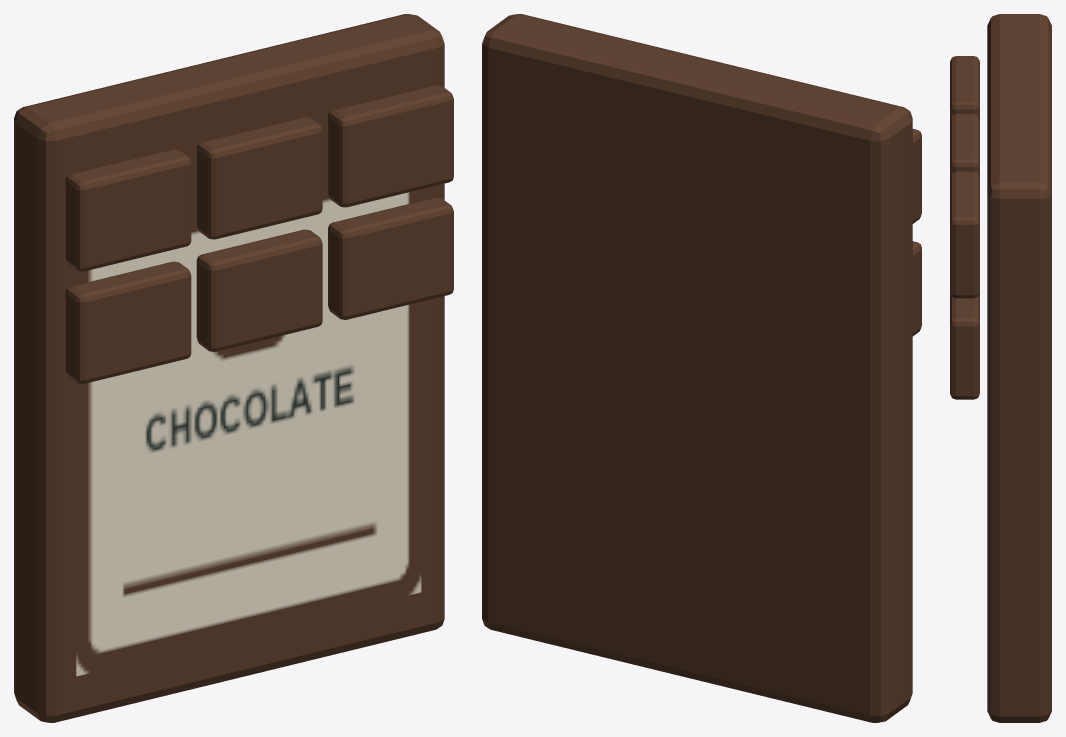
File: chocolate.fbx
3 views of the same model, side by side, from view 1: azimuth 30°, elevation 25°; view 2: azimuth 150°, elevation 25°; view 3: azimuth 270°, elevation 25° (orthographic). The views are drawn at different scales.
Visible parts, largest first — view 1: chocolate; view 2: chocolate; view 3: chocolate.
Part boxes in pixels (<box>): chocolate: <box>14,14,453,722</box>; chocolate: <box>482,14,921,722</box>; chocolate: <box>950,14,1051,722</box>.
Size of the model in its own units: 17 by 24 by 4.1.
